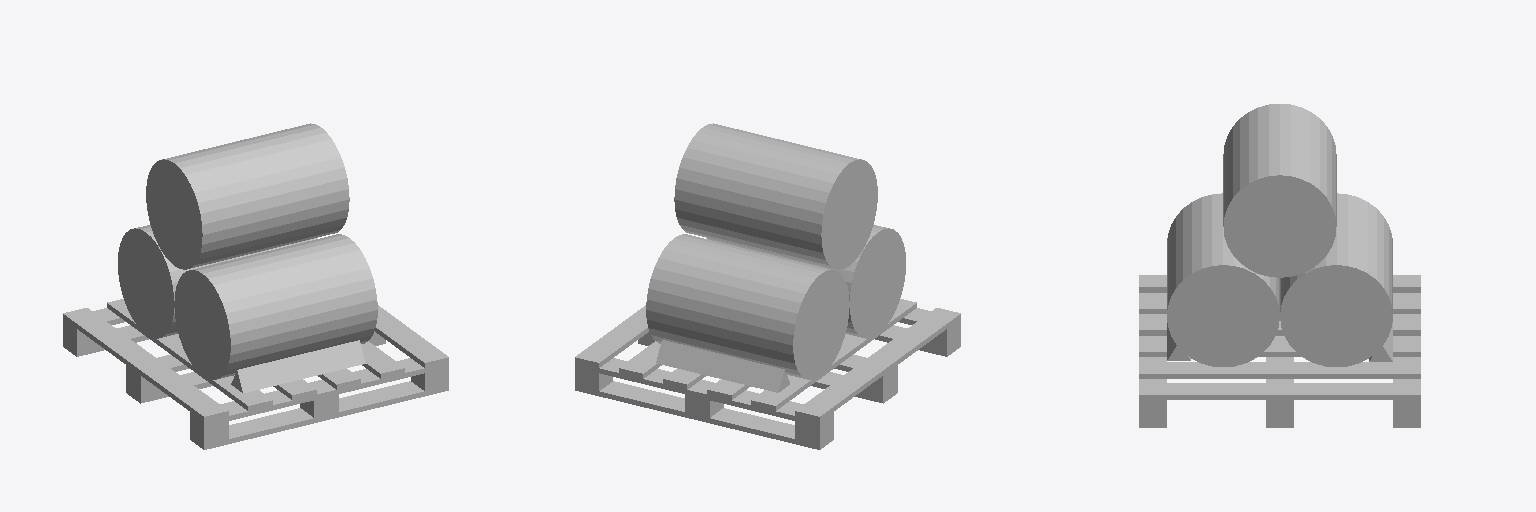
The model's file is palette_barrels.obj.
3 views of the same model, side by side, from view 1: azimuth 30°, elevation 25°; view 2: azimuth 150°, elevation 25°; view 3: azimuth 270°, elevation 25° (orthographic).
Parts seen in each view (by area): view 1: Cylinder, Cylinder.002, Cube, Cylinder.001, Cube.003_Cube.004, Cylinder.003, Cube.001, Cube.002_Cube.003; view 2: Cylinder, Cylinder.001, Cube, Cylinder.002, Cube.003_Cube.004, Cylinder.004, Cube.001, Cube.002_Cube.003; view 3: Cylinder, Cylinder.001, Cylinder.002, Cube, Cube.001, Cube.002_Cube.003.
Boxes of the visible parts, x1,y1,x2,y2 form: Cylinder: [146, 123, 349, 269]; Cylinder.002: [174, 234, 377, 379]; Cube: [63, 299, 448, 421]; Cylinder.001: [118, 225, 316, 338]; Cube.003_Cube.004: [63, 325, 448, 449]; Cylinder.003: [231, 340, 365, 392]; Cube.001: [63, 308, 448, 426]; Cube.002_Cube.003: [63, 324, 448, 444]; Cylinder: [674, 123, 877, 269]; Cylinder.001: [646, 234, 849, 379]; Cube: [575, 299, 960, 421]; Cylinder.002: [707, 225, 905, 338]; Cube.003_Cube.004: [575, 325, 960, 449]; Cylinder.004: [656, 340, 789, 392]; Cube.001: [575, 308, 960, 426]; Cube.002_Cube.003: [575, 324, 960, 444]; Cylinder: [1223, 104, 1336, 277]; Cylinder.001: [1280, 193, 1392, 366]; Cylinder.002: [1167, 193, 1279, 366]; Cube: [1139, 275, 1420, 399]; Cube.001: [1139, 293, 1420, 404]; Cube.002_Cube.003: [1139, 405, 1420, 422].
Size of the model in its own units: 2 by 1.76 by 2.